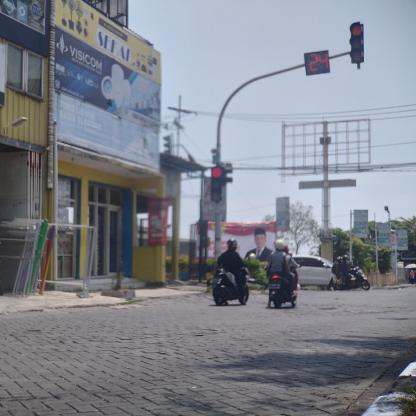red: (349, 22, 365, 64), (211, 166, 224, 203)
